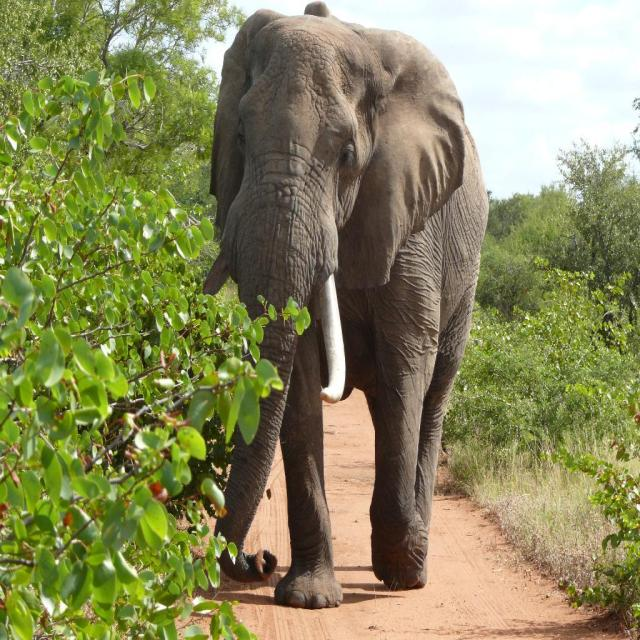Elephant: (202, 1, 489, 610)
